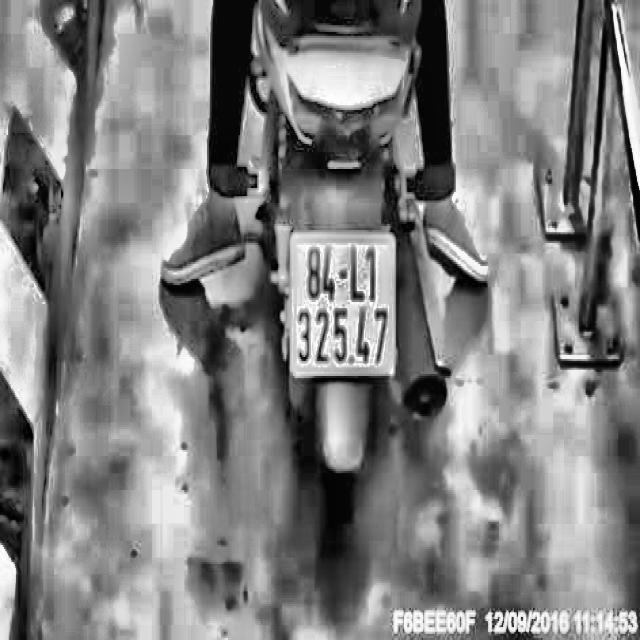plate: (286, 224, 399, 384)
